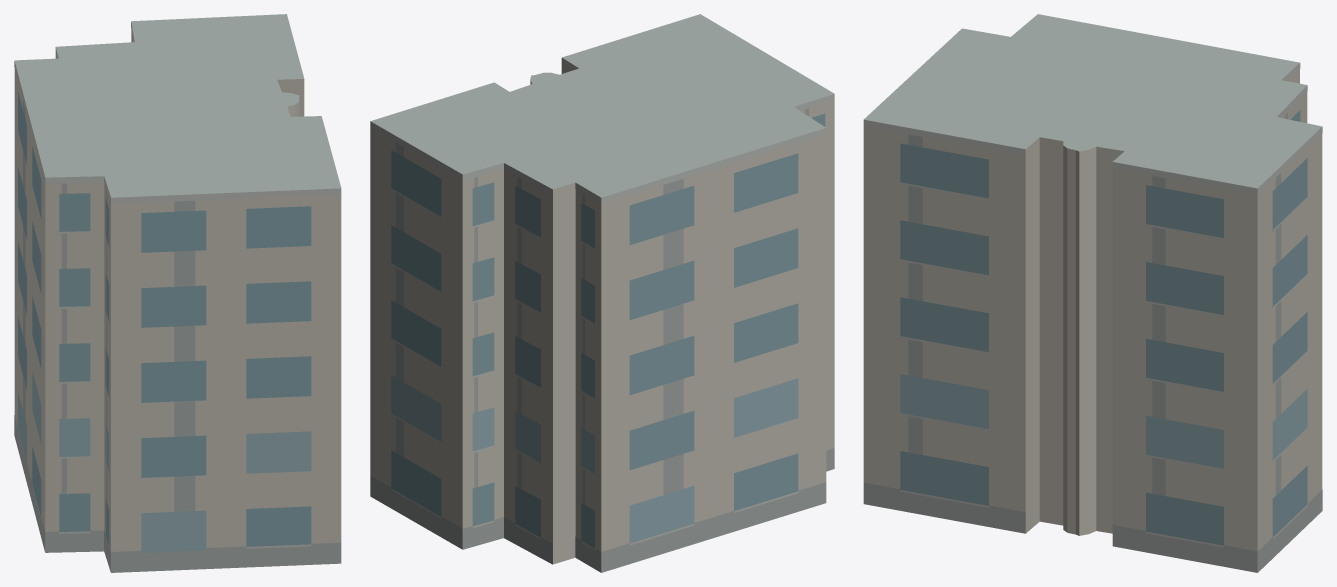
File: survey-upis-32526693.glb
3 views of the same model, side by side, from view 1: azimuth 30°, elevation 25°; view 2: azimuth 150°, elevation 25°; view 3: azimuth 270°, elevation 25° (orthographic). The views are drawn at different scales.
Parts seen in each view (by area): view 1: survey-upis-32526693.tmp; view 2: survey-upis-32526693.tmp; view 3: survey-upis-32526693.tmp.
Boxes of the visible parts, <box> form: survey-upis-32526693.tmp: <box>14,14,341,572</box>; survey-upis-32526693.tmp: <box>370,14,834,572</box>; survey-upis-32526693.tmp: <box>863,14,1322,572</box>.
Size of the model in its own units: 13.83 by 14.2 by 15.37.
